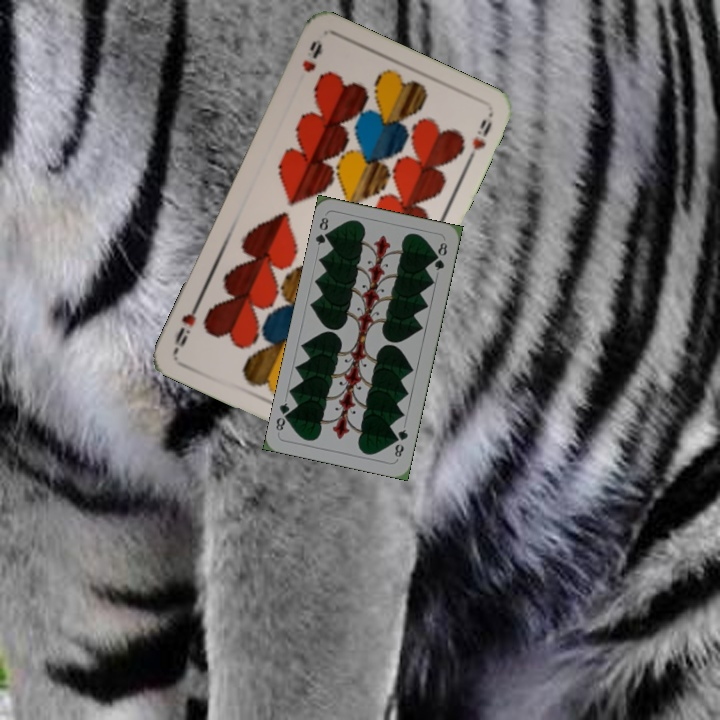G8: (311, 213, 334, 248), (390, 425, 411, 462)
H9: (298, 35, 325, 75)
